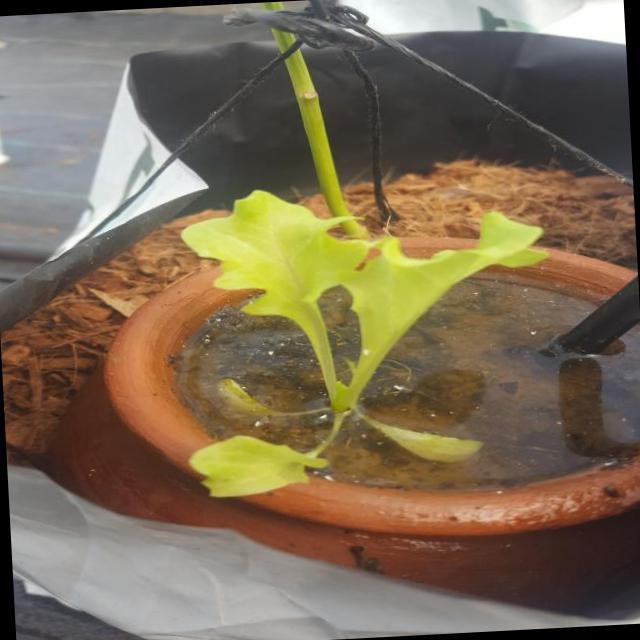Lettuce-Not-Ready-to-Harvest: (181, 191, 549, 497)
